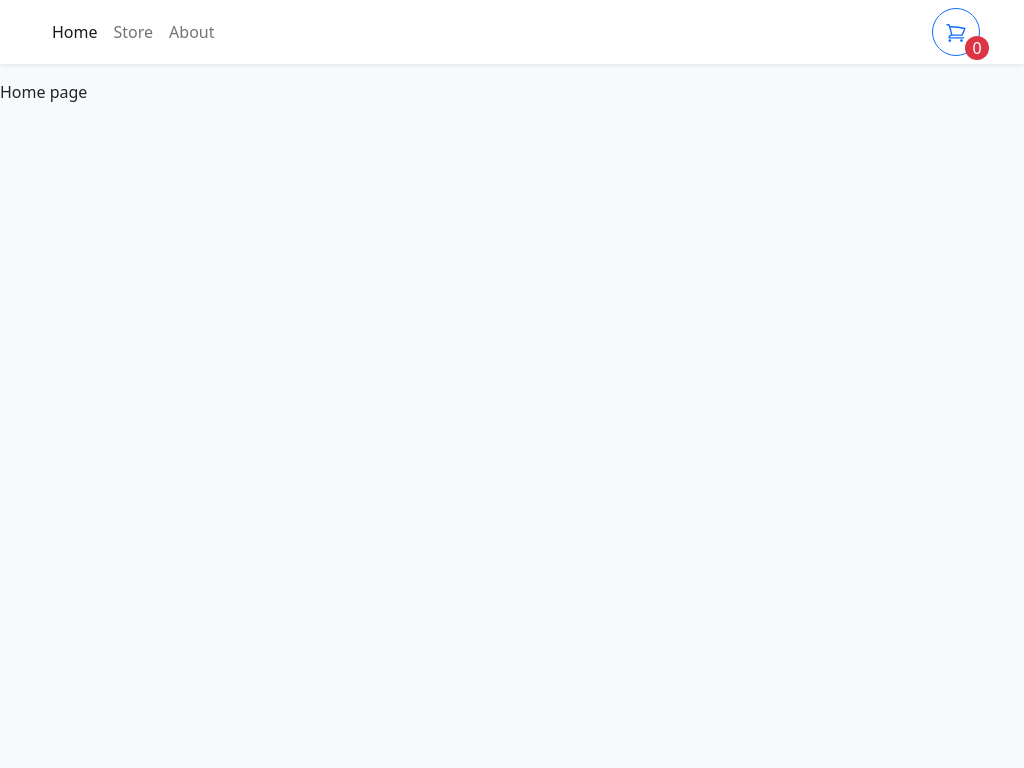
Test: Testind Navbar Component › Should open cart on click
Click the button: [956, 32] box [932,8,980,56]
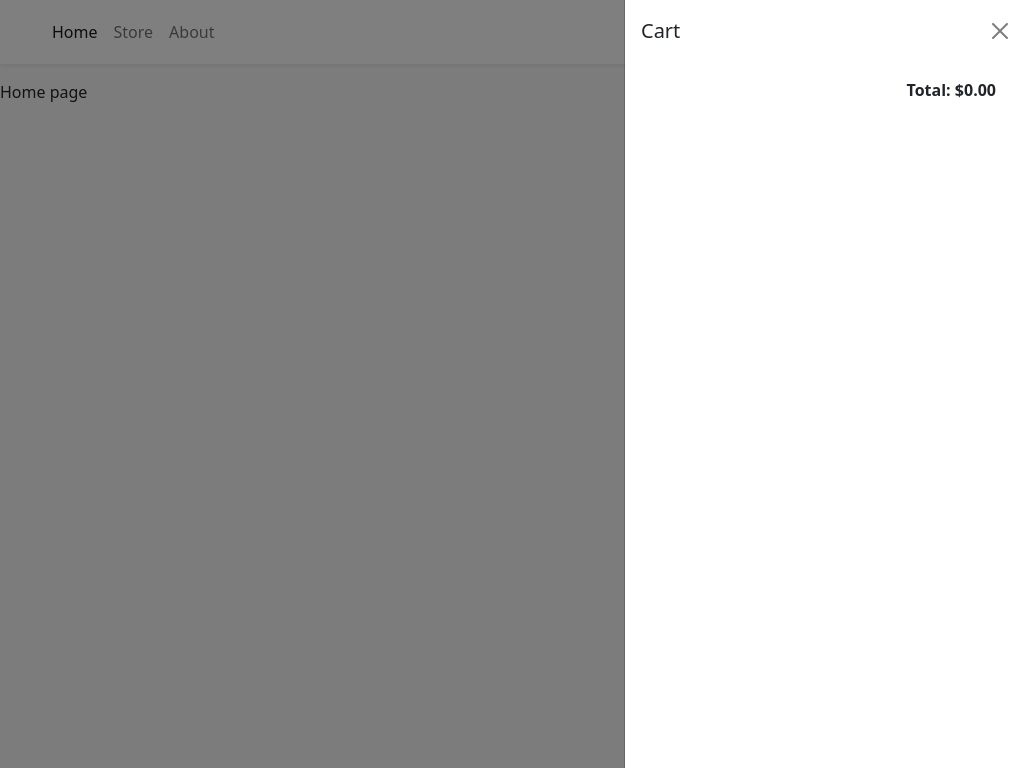
Check: the text "Cart" is shown, box [641,16,680,46]
